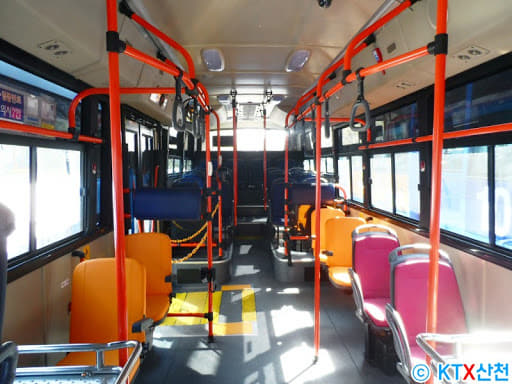seat: (351, 221, 403, 339)
